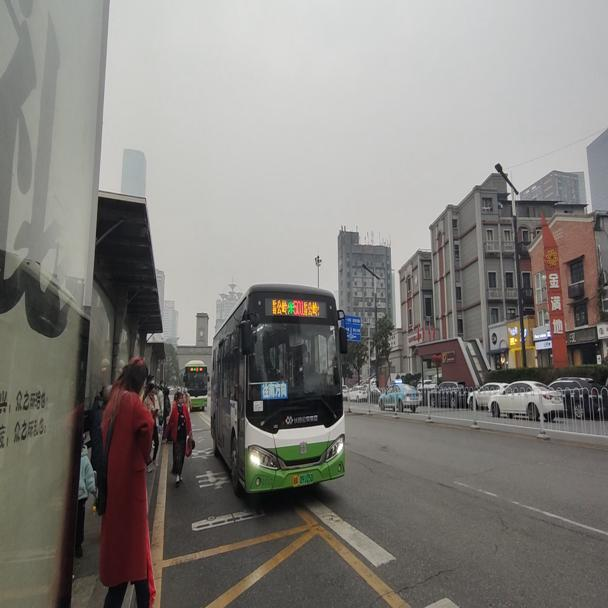bus: (209, 283, 348, 493), (182, 360, 208, 409)
screen: (291, 297, 303, 315)
